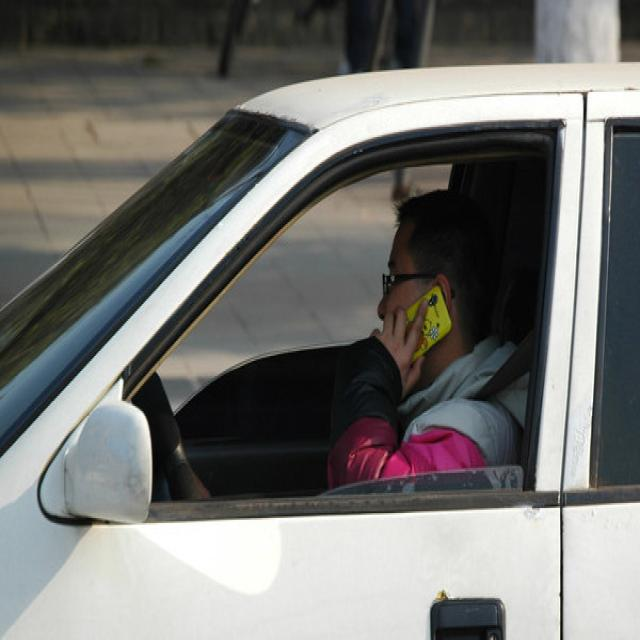phone: (392, 286, 452, 361)
